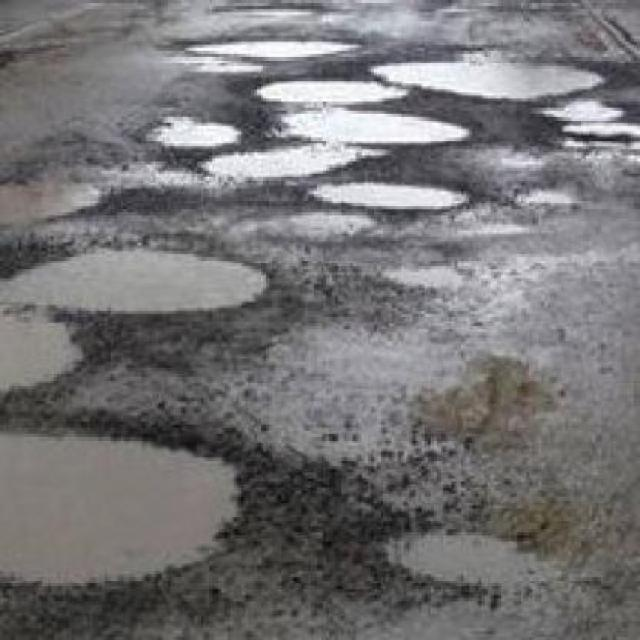pothole: (0, 418, 252, 598), (350, 502, 578, 598), (0, 236, 269, 312), (362, 51, 620, 98), (182, 137, 398, 177), (0, 302, 88, 396), (269, 102, 485, 138), (0, 162, 111, 228), (293, 173, 479, 207), (173, 29, 365, 60), (245, 72, 410, 105), (132, 105, 242, 146), (371, 252, 469, 293), (200, 0, 342, 22), (526, 89, 622, 120), (451, 212, 535, 240), (508, 180, 581, 212)
